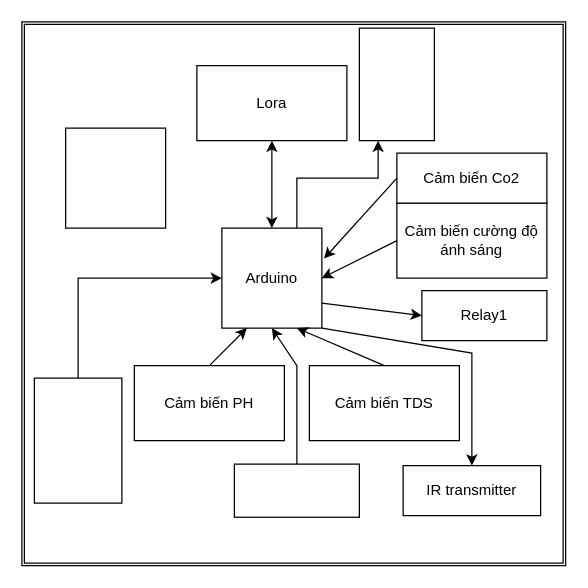
This 588x588 diagram has some shape labels left out. Here are the shapes that lost their labels. From the top down, the centre of each, then its label:
(396,84): Relay2
(115,177): Khối nguồn
(77,440): Cảm biến nhiệt độ và độ ẩm không khí
(296,490): IR receiver
